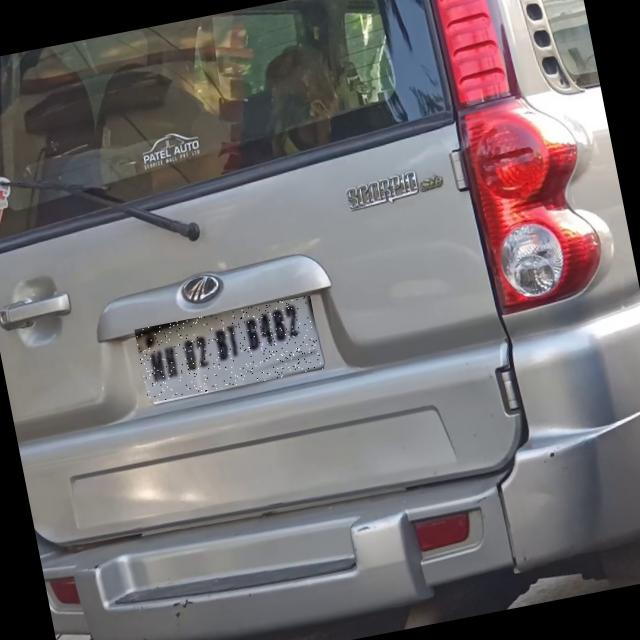Plate: (136, 297, 326, 405)
